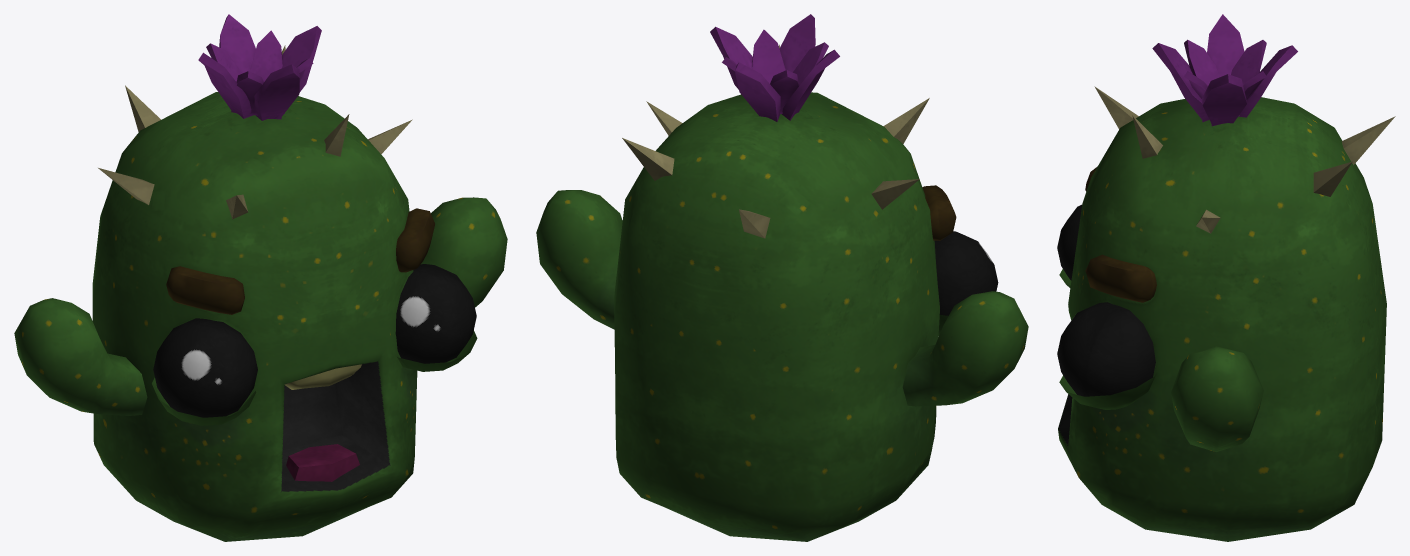
Rendered from cactus.glb.
The picture shows the model from 3 angles, left to right: view 1: azimuth 30°, elevation 25°; view 2: azimuth 150°, elevation 25°; view 3: azimuth 270°, elevation 25°; orthographic projection.
Visible parts, largest first — view 1: Cactus.001_Cube.000; view 2: Cactus.001_Cube.000; view 3: Cactus.001_Cube.000.
Part boxes in pixels (bbox=[...]): Cactus.001_Cube.000: bbox=[14, 14, 507, 541]; Cactus.001_Cube.000: bbox=[536, 14, 1028, 541]; Cactus.001_Cube.000: bbox=[1057, 14, 1395, 541].
Size of the model in its own units: 2.37 by 2.25 by 1.46.
1 material, 1 textured.
